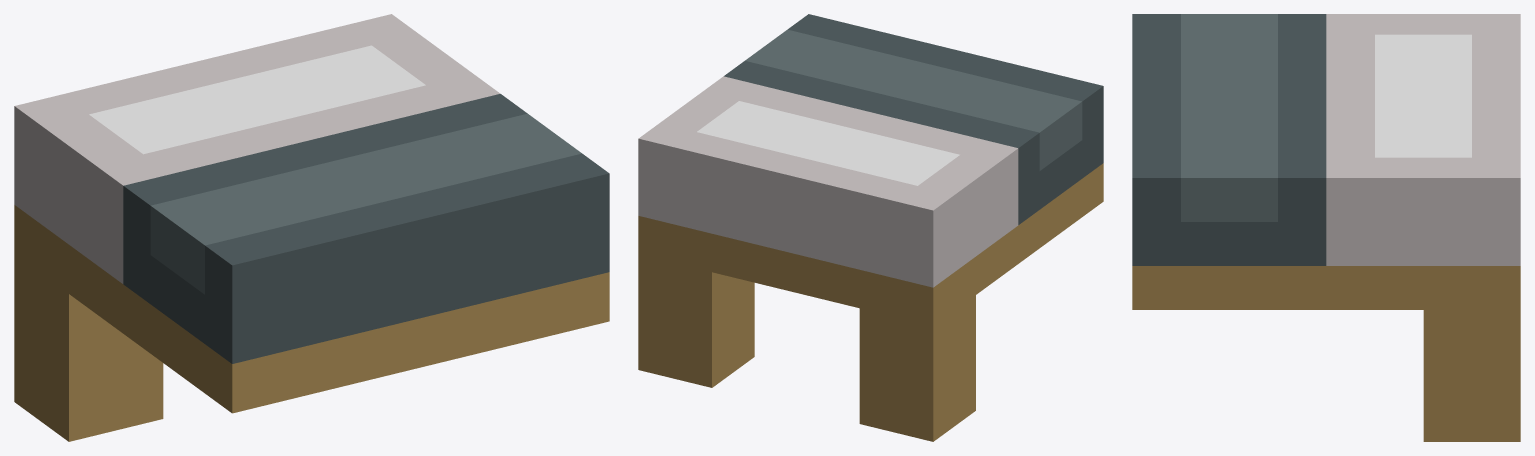
Rendered from _Gray Bed Head.glb.
3 views of the same model, side by side, from view 1: azimuth 30°, elevation 25°; view 2: azimuth 150°, elevation 25°; view 3: azimuth 270°, elevation 25° (orthographic). The views are drawn at different scales.
Visible parts, largest first — view 1: Untitled; view 2: Untitled; view 3: Untitled.
Boxes of the visible parts, bbox=[...] form: Untitled: bbox=[14, 14, 609, 441]; Untitled: bbox=[638, 14, 1103, 441]; Untitled: bbox=[1132, 14, 1520, 441].
Size of the model in its own units: 1.6 by 1.2 by 1.6.
Materials: 1 (1 with a texture image).
